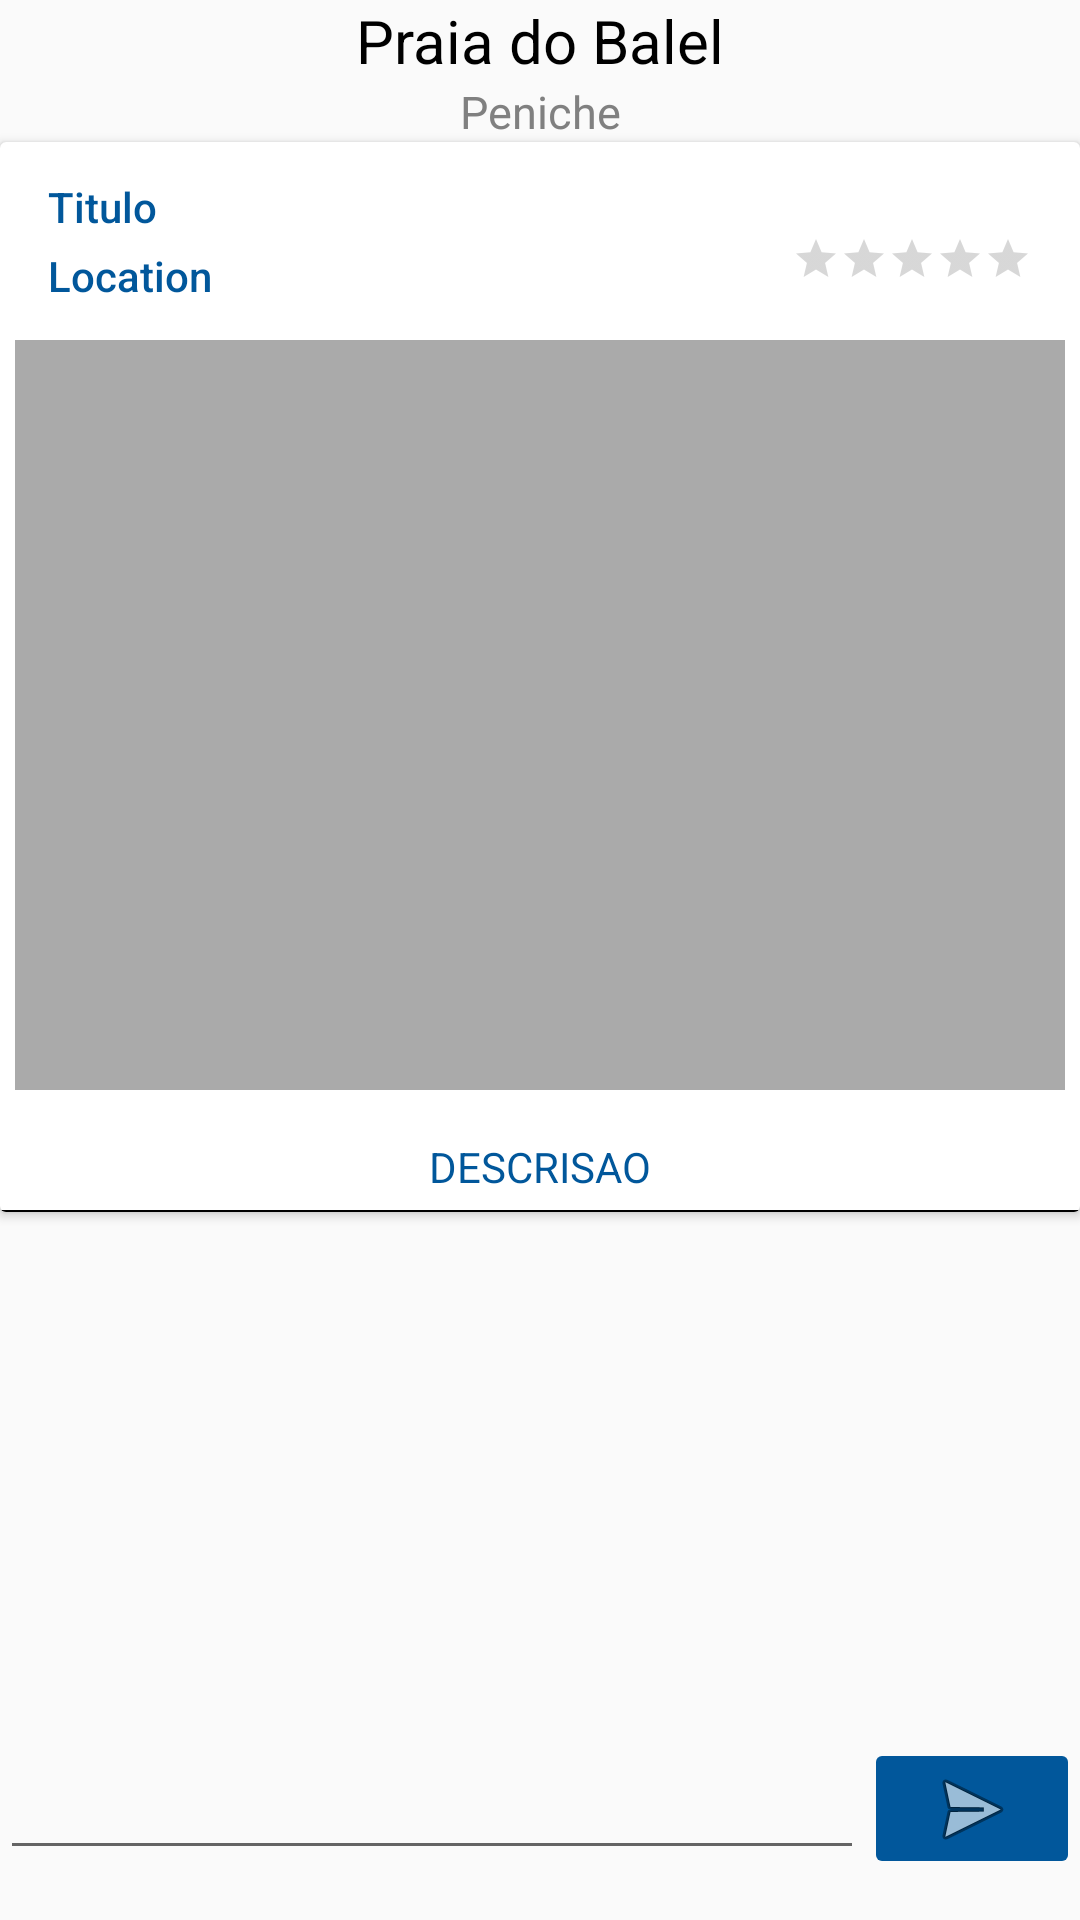

Named icons in this screenshot (1080x1920) and their bounding boxes, (x1, y1, x2, y2):
send: (876, 1756, 1068, 1861)
